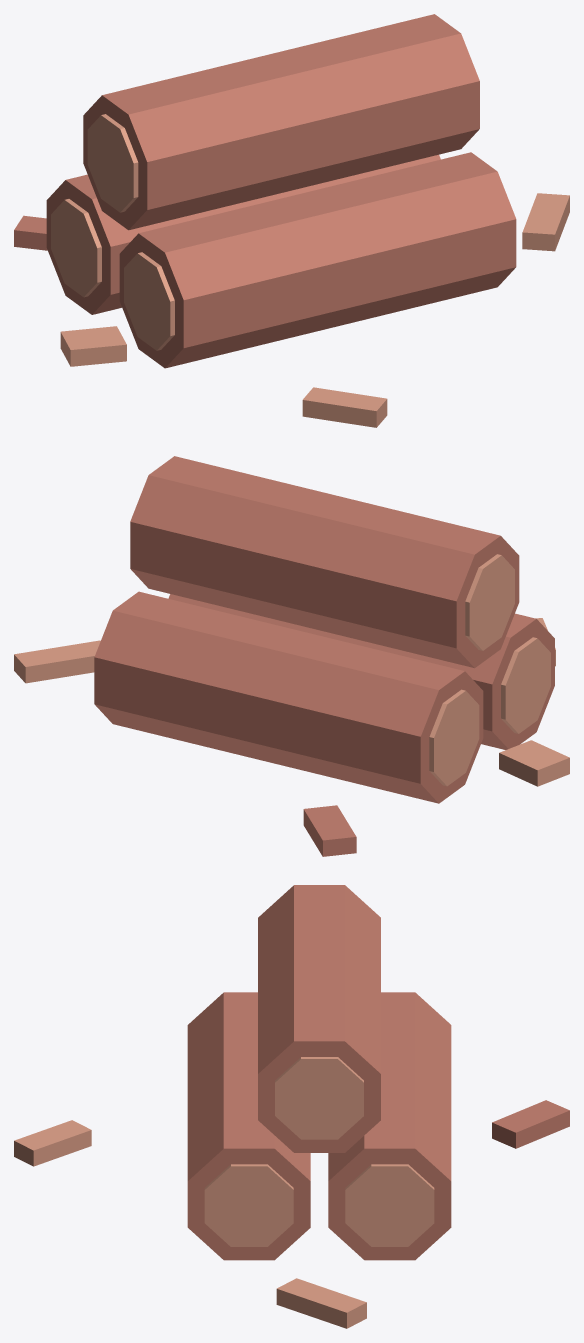
The model's file is LogPile.fbx.
The picture shows the model from 3 angles, top to bottom: view 1: azimuth 30°, elevation 25°; view 2: azimuth 150°, elevation 25°; view 3: azimuth 270°, elevation 25°; orthographic projection. The views are drawn at different scales.
Visible parts, largest first — view 1: Wood.002, WoodLight.001; view 2: Wood.002, WoodLight.001; view 3: Wood.002, WoodLight.001.
Part boxes in pixels (left/top/right/bottom): Wood.002: left=14, top=14, right=516, bottom=368; WoodLight.001: left=51, top=114, right=569, bottom=427; Wood.002: left=94, top=456, right=554, bottom=856; WoodLight.001: left=14, top=554, right=569, bottom=786; Wood.002: left=187, top=885, right=569, bottom=1260; WoodLight.001: left=14, top=1057, right=434, bottom=1328.
Size of the model in its own units: 8.01 by 3.33 by 7.51.
